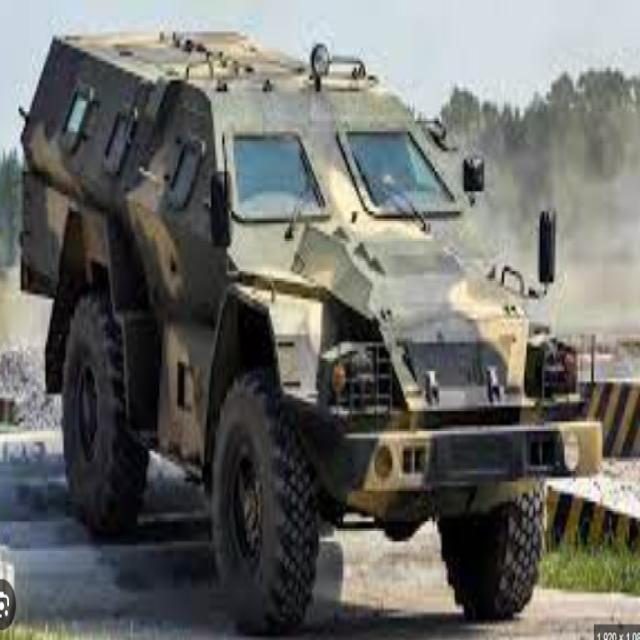CAR: (18, 18, 606, 624)
